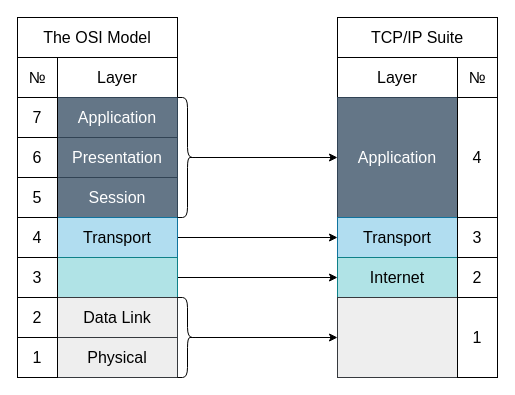
The diagram is 515 pixels wide and 395 high, and some of its shapes have lost their labels. The shapes that lost their labels are listed below. From the top down, each one's centre as x and y in pixels, then its label:
At (x=117, y=277): "Network".
At (x=397, y=337): "Link".
